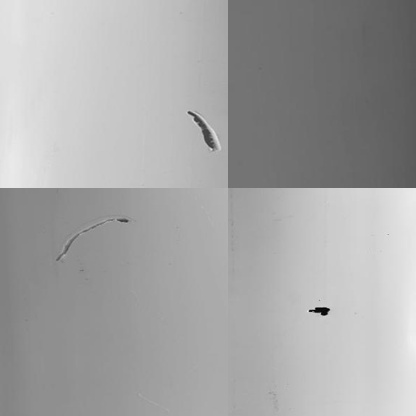fengxi: (58, 213, 131, 258)
kongdong: (185, 109, 219, 152), (307, 303, 330, 319)
